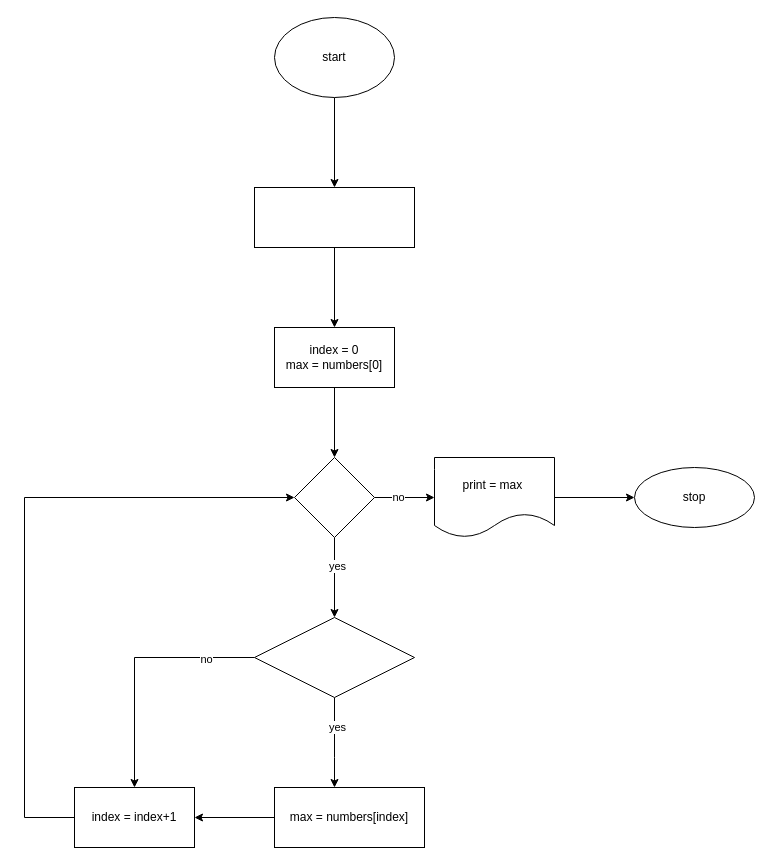
Some shapes in this 772 by 865 pixel diagram are drawn without their labels. Here are the shapes that lost their labels. From the top down, the centre of each, then its label:
[334,217]: numbers = (16,12,13,15,40,76,33) size = 7
[334,497]: index < size
[334,657]: numbers[index]>max
